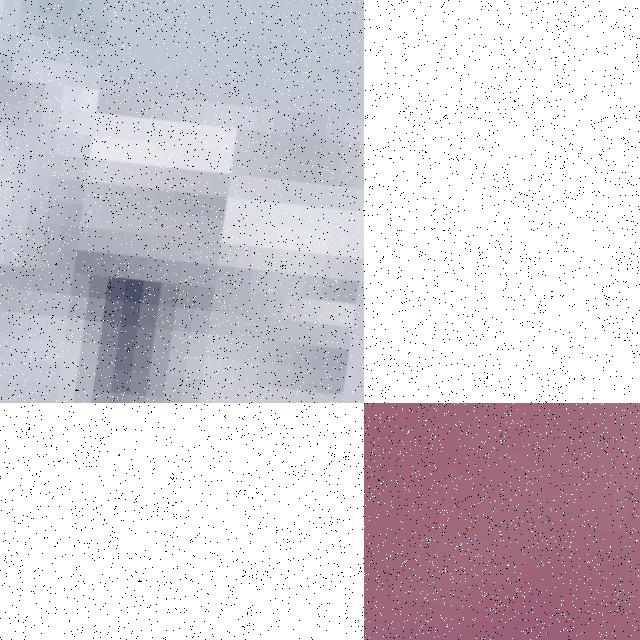0: (0, 0, 364, 403)
drone: (364, 403, 640, 640)
